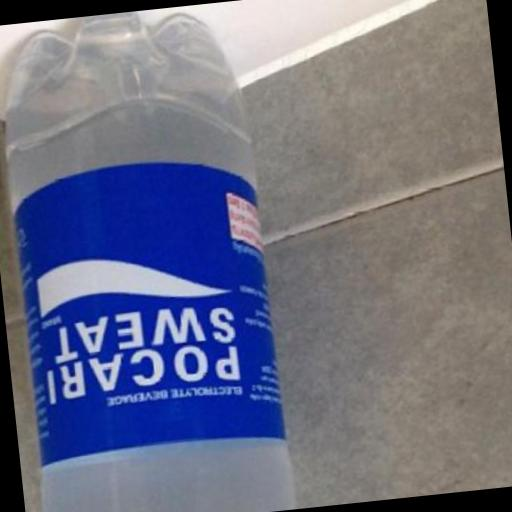Coca: (0, 1, 305, 512)
